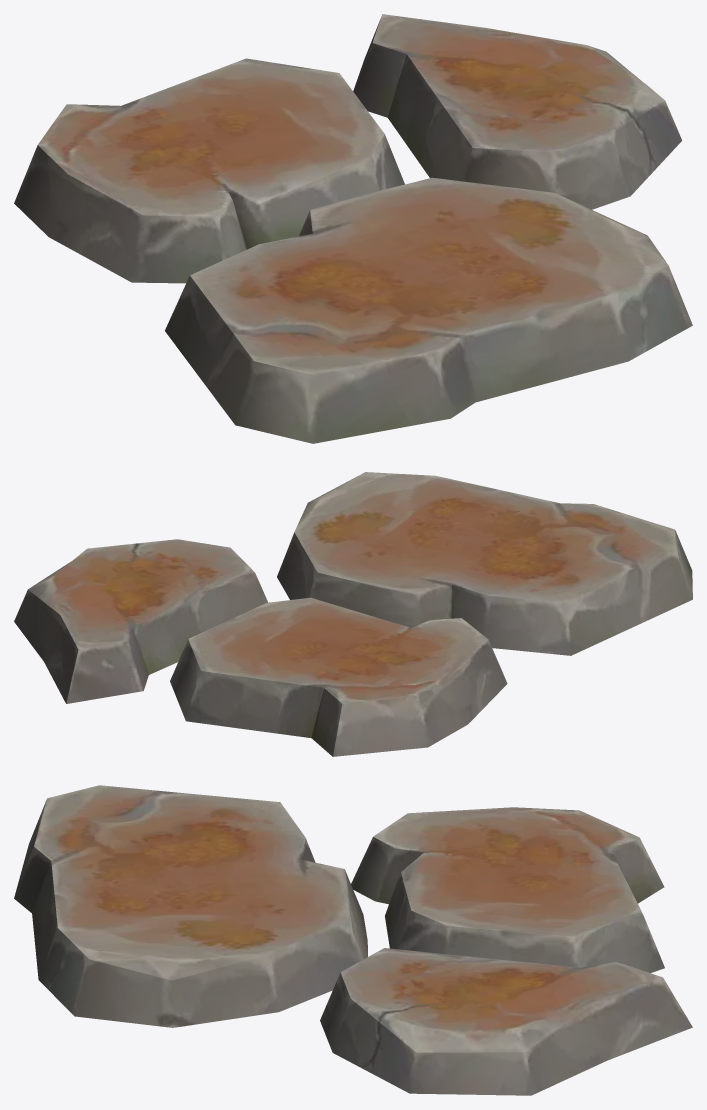
3 views of the same model, one above another, from view 1: azimuth 30°, elevation 25°; view 2: azimuth 150°, elevation 25°; view 3: azimuth 270°, elevation 25° (orthographic). The views are drawn at different scales.
Bounding box in the file's own units: 1.64 × 0.1436 × 1.75.
Materials: 1 (1 with a texture image).
